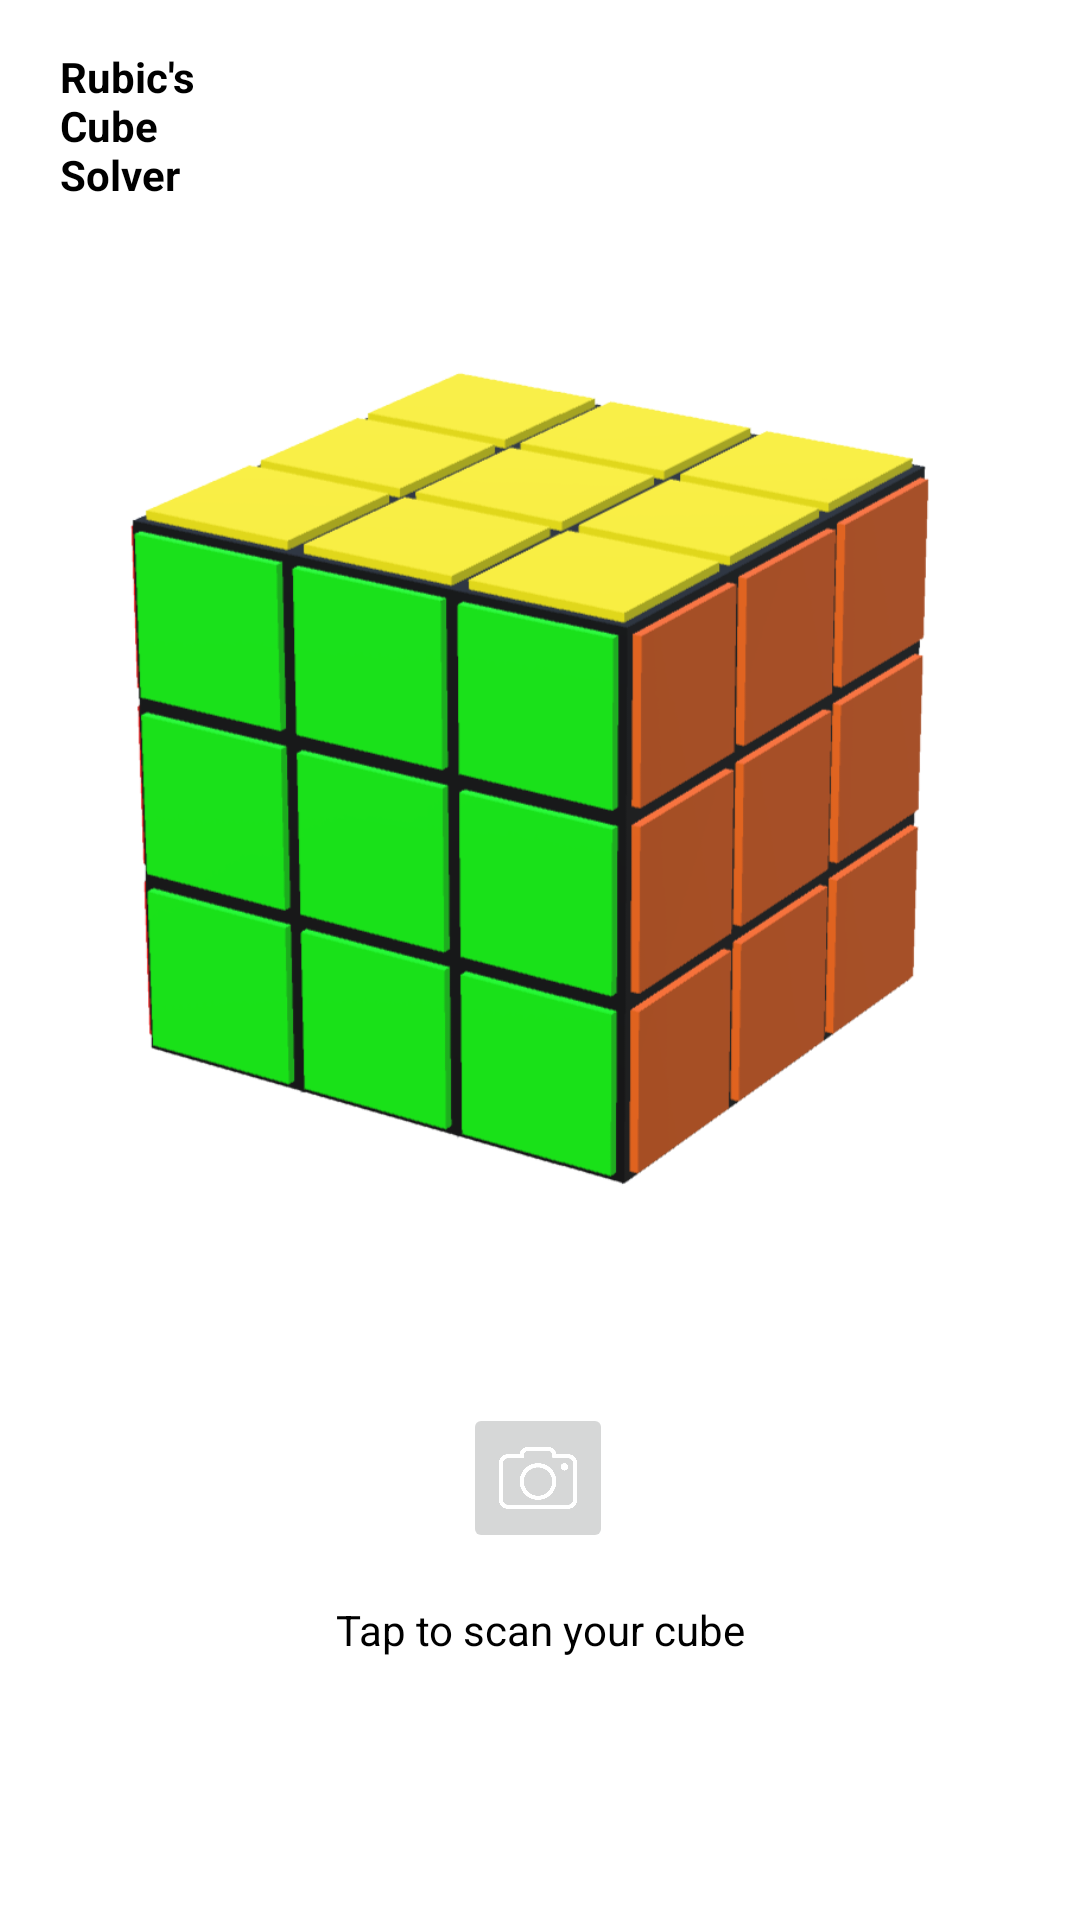

Icon bounding boxes for this 1080 x 1920 phone screenshot, format (x1, y1, x2, y2):
This is a camera image: (475, 1421, 601, 1535)
